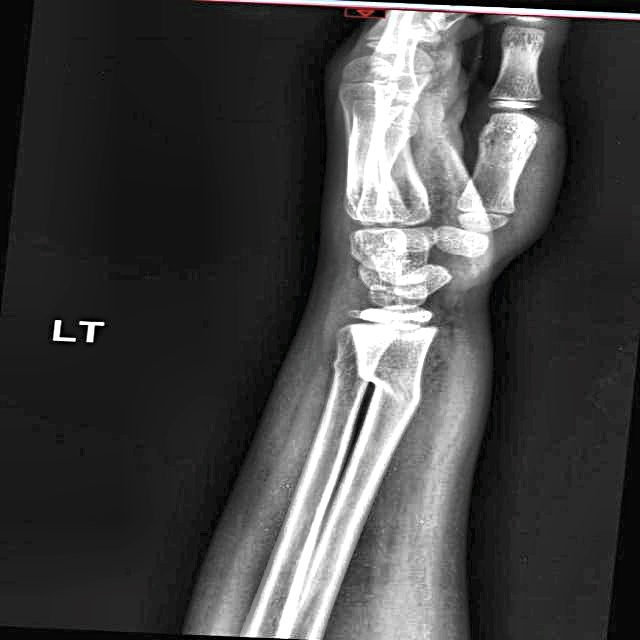Greenstick: (349, 357, 411, 407)
